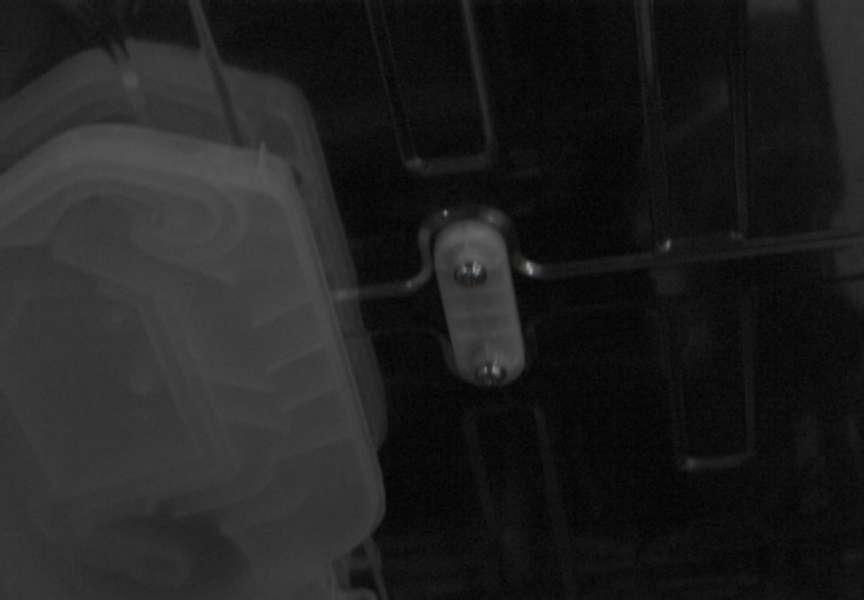screw: (454, 261, 487, 287), (475, 361, 507, 387)
